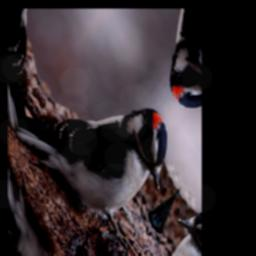Woodpecker: (14, 17, 189, 256)
